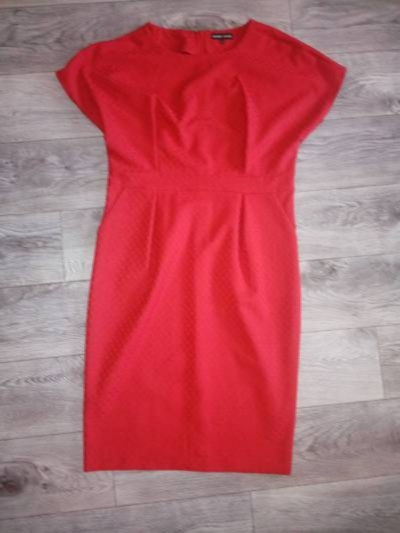Dress: (35, 15, 355, 486)
